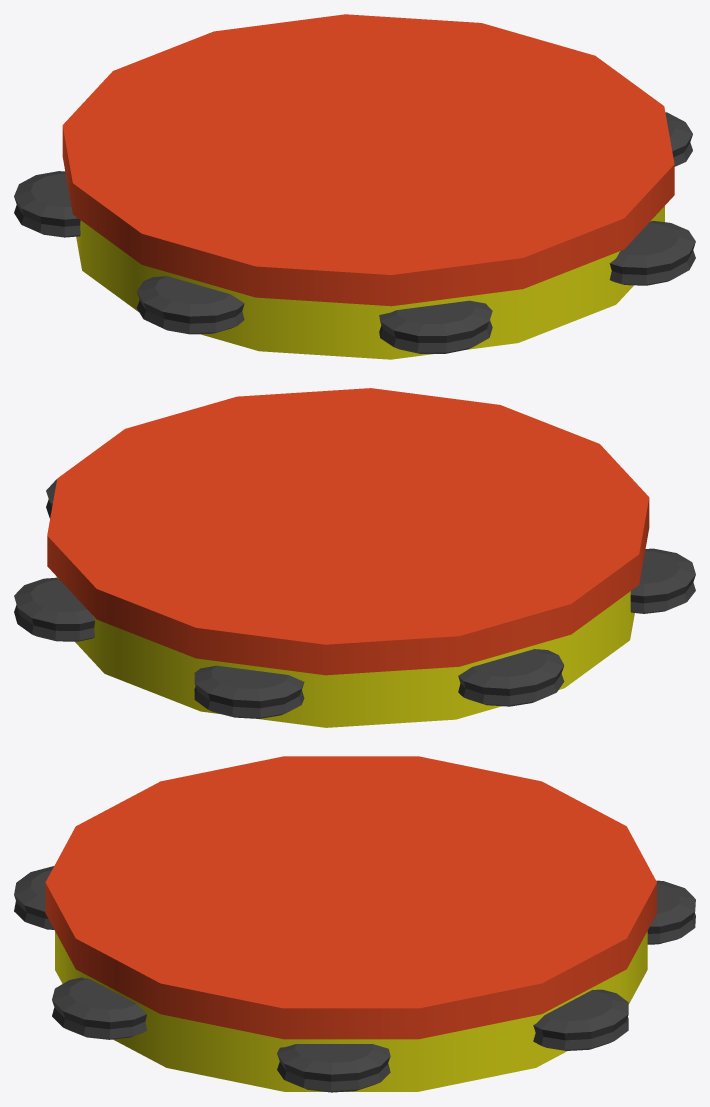
File: TamboeRijn.fbx
3 views of the same model, one above another, from view 1: azimuth 30°, elevation 25°; view 2: azimuth 150°, elevation 25°; view 3: azimuth 270°, elevation 25° (orthographic).
Visible parts, largest first — view 1: Tamboerijn; view 2: Tamboerijn; view 3: Tamboerijn.
Part boxes in pixels (x1=…): Tamboerijn: x1=14, y1=14, x2=695, y2=359; Tamboerijn: x1=14, y1=388, x2=695, y2=727; Tamboerijn: x1=14, y1=756, x2=695, y2=1092.
Size of the model in its own units: 0.3 by 0.043 by 0.3031.
